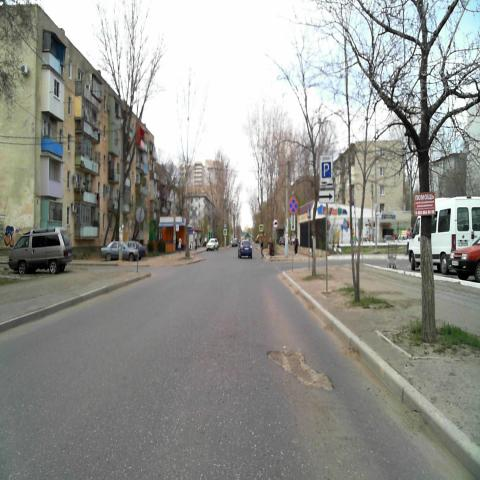8_3_1: (318, 189, 334, 203)
